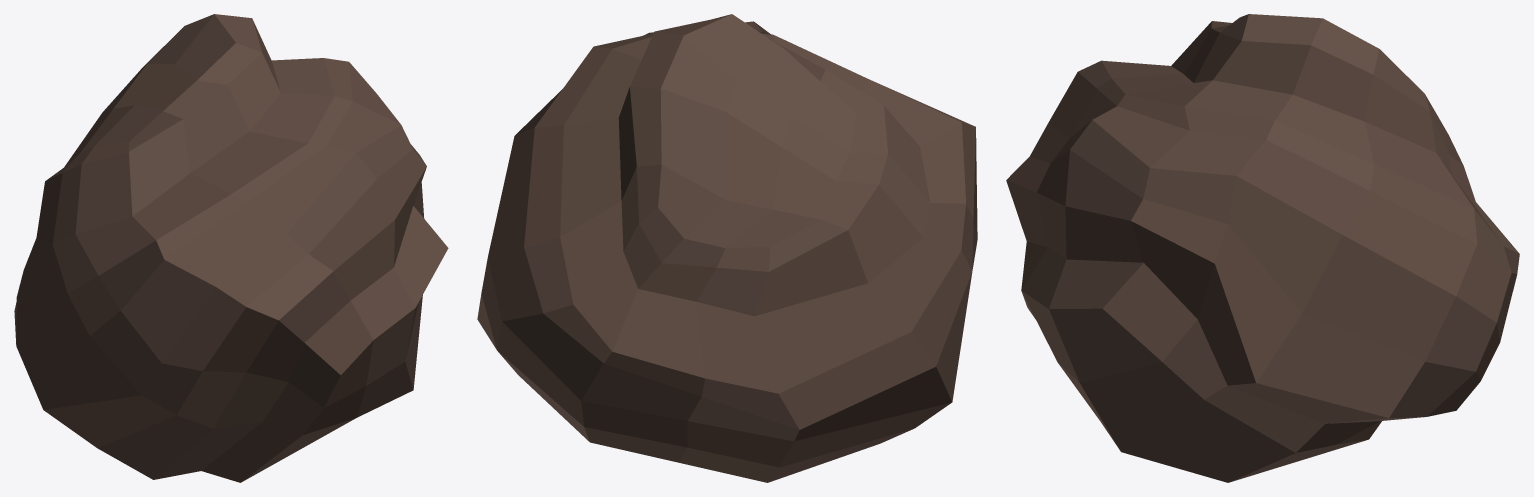
File: Rock_1.fbx
3 views of the same model, side by side, from view 1: azimuth 30°, elevation 25°; view 2: azimuth 150°, elevation 25°; view 3: azimuth 270°, elevation 25° (orthographic). The views are drawn at different scales.
Visible parts, largest first — view 1: pCube1; view 2: pCube1; view 3: pCube1.
Boxes of the visible parts, left/top/right/bottom form: pCube1: left=14, top=14, right=448, bottom=482; pCube1: left=477, top=14, right=977, bottom=482; pCube1: left=1006, top=14, right=1519, bottom=482.
Bounding box in the file's own units: 14.19 × 13.71 × 14.3.
